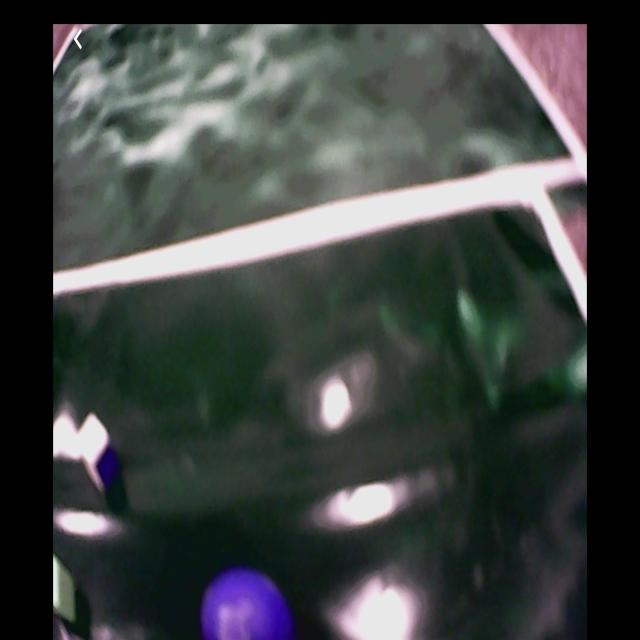ball: (203, 570, 290, 640)
